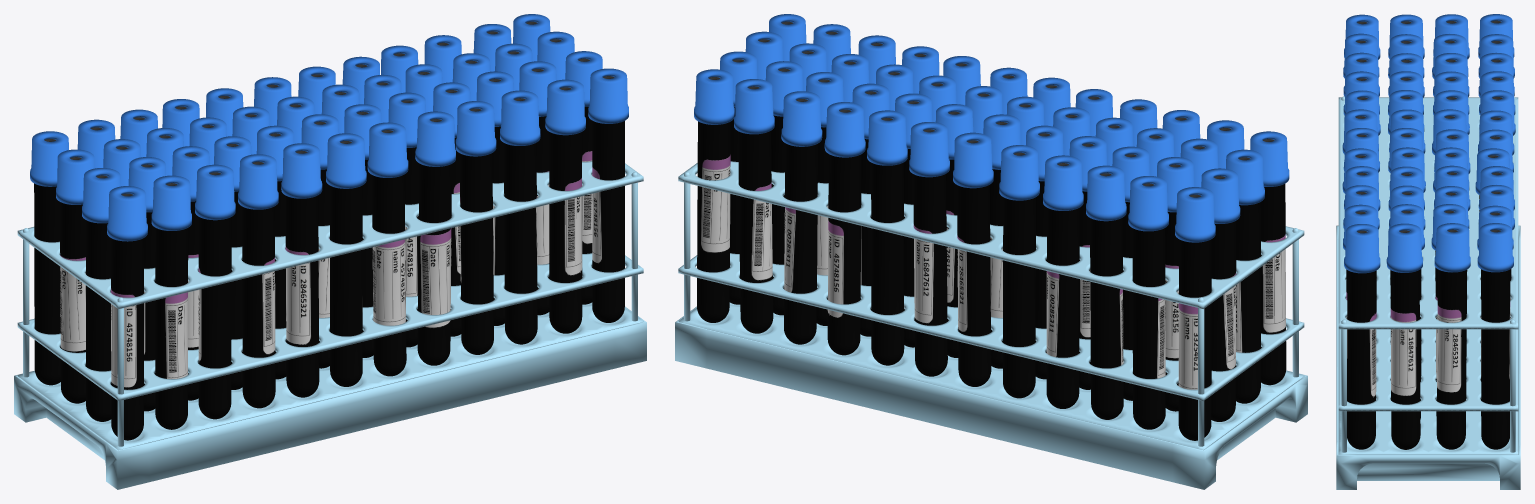
The model's file is medicationsCategory.glb.
3 views of the same model, side by side, from view 1: azimuth 30°, elevation 25°; view 2: azimuth 150°, elevation 25°; view 3: azimuth 270°, elevation 25° (orthographic). The views are drawn at different scales.
Visible parts, largest first — view 1: bloodtest2, Cylinder.040, Cylinder.036, Cylinder.008, Cylinder.032, Cylinder.020, Cylinder.016, Cylinder.012, Cylinder.024, Cylinder.044, Cylinder.001, Cylinder.028 (+37 smaller); view 2: bloodtest2, Cylinder.027, Cylinder.011, Cylinder.047, Cylinder.039, Cylinder.031, Cylinder.023, Cylinder.019, Cylinder.043, Cylinder.007, Cylinder.015, Cylinder.035 (+37 smaller); view 3: bloodtest2, Cylinder.006, Cylinder.005, Cylinder.001, Cylinder.007, Cylinder.010, Cylinder.009, Cylinder.008, Cylinder.015, Cylinder.035, Cylinder.024, Cylinder.030 (+37 smaller).
Boxes of the visible parts, bbox=[...] form: bloodtest2: bbox=[14, 161, 646, 489]; Cylinder.040: bbox=[195, 164, 235, 419]; Cylinder.036: bbox=[238, 154, 278, 408]; Cylinder.008: bbox=[545, 79, 585, 333]; Cylinder.032: bbox=[281, 143, 322, 397]; Cylinder.020: bbox=[415, 111, 455, 365]; Cylinder.016: bbox=[455, 101, 496, 354]; Cylinder.012: bbox=[500, 90, 540, 344]; Cylinder.024: bbox=[367, 122, 408, 376]; Cylinder.044: bbox=[151, 175, 191, 429]; Cylinder.001: bbox=[588, 68, 628, 322]; Cylinder.028: bbox=[326, 133, 366, 386]; bloodtest2: bbox=[675, 161, 1307, 489]; Cylinder.027: bbox=[909, 122, 949, 376]; Cylinder.011: bbox=[734, 79, 774, 333]; Cylinder.047: bbox=[1128, 176, 1168, 429]; Cylinder.039: bbox=[1043, 155, 1083, 408]; Cylinder.031: bbox=[953, 132, 993, 386]; Cylinder.023: bbox=[867, 110, 907, 365]; Cylinder.019: bbox=[824, 102, 865, 355]; Cylinder.043: bbox=[1086, 165, 1126, 419]; Cylinder.007: bbox=[694, 69, 734, 322]; Cylinder.015: bbox=[781, 91, 822, 344]; Cylinder.035: bbox=[999, 145, 1039, 398]; bloodtest2: bbox=[1336, 96, 1520, 489]; Cylinder.006: bbox=[1434, 223, 1470, 449]; Cylinder.005: bbox=[1386, 223, 1422, 449]; Cylinder.001: bbox=[1344, 224, 1380, 449]; Cylinder.007: bbox=[1477, 223, 1513, 449]; Cylinder.010: bbox=[1431, 204, 1466, 416]; Cylinder.009: bbox=[1390, 204, 1424, 419]; Cylinder.008: bbox=[1343, 204, 1377, 358]; Cylinder.015: bbox=[1478, 185, 1514, 318]; Cylinder.035: bbox=[1479, 90, 1515, 135]; Cylinder.024: bbox=[1343, 128, 1379, 172]; Cylinder.030: bbox=[1432, 109, 1466, 154].
Bounding box in the file's own units: 4.84 × 2.45 × 1.64.
9 materials, 5 textured.
